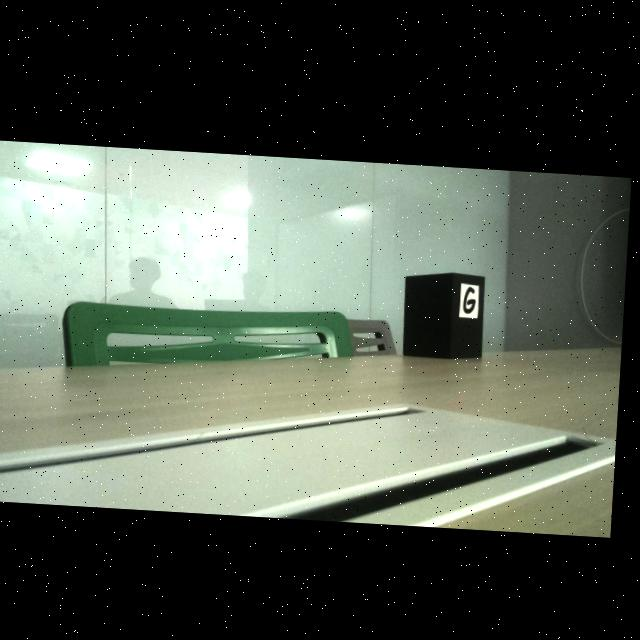G: (467, 281, 479, 308)
